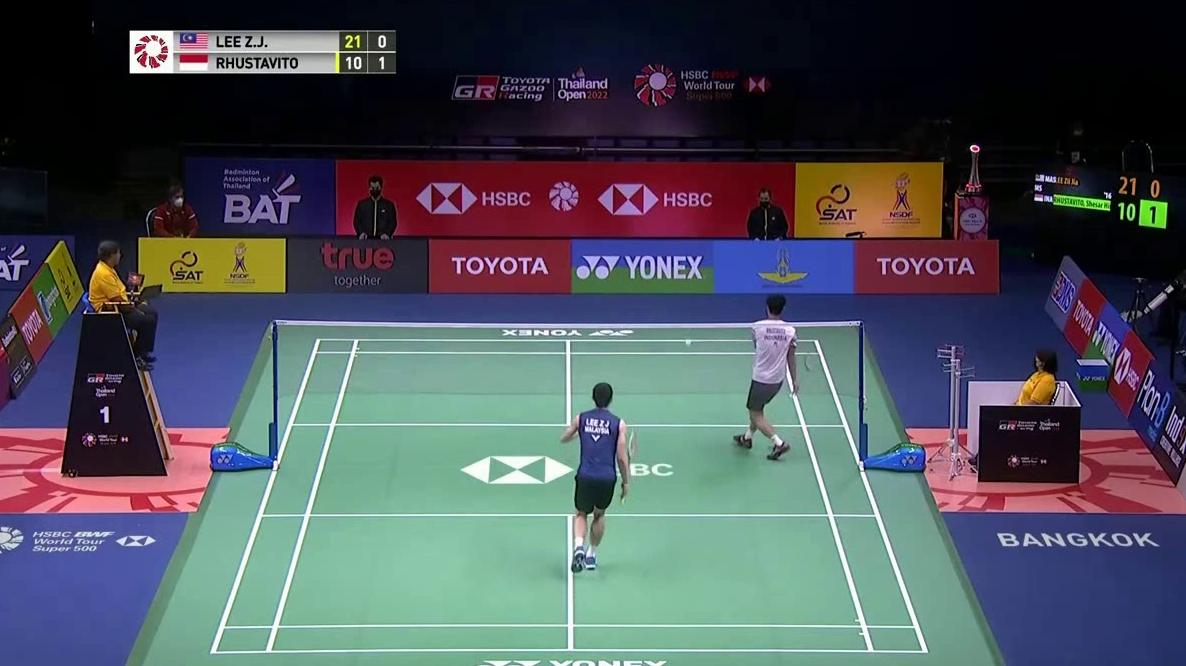racket: (619, 429, 638, 505), (790, 353, 819, 398)
shuttle: (686, 339, 692, 346)
